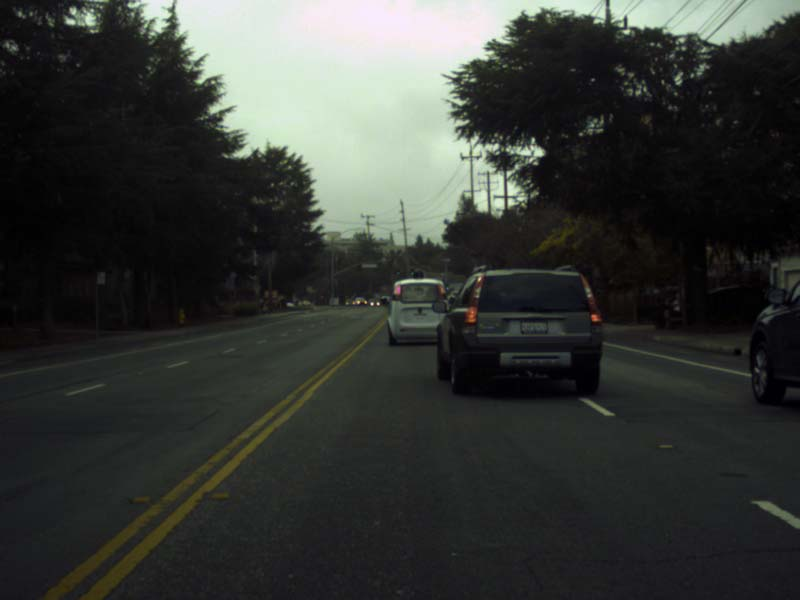Green: (444, 281, 448, 291), (396, 268, 399, 273), (411, 268, 413, 274)
